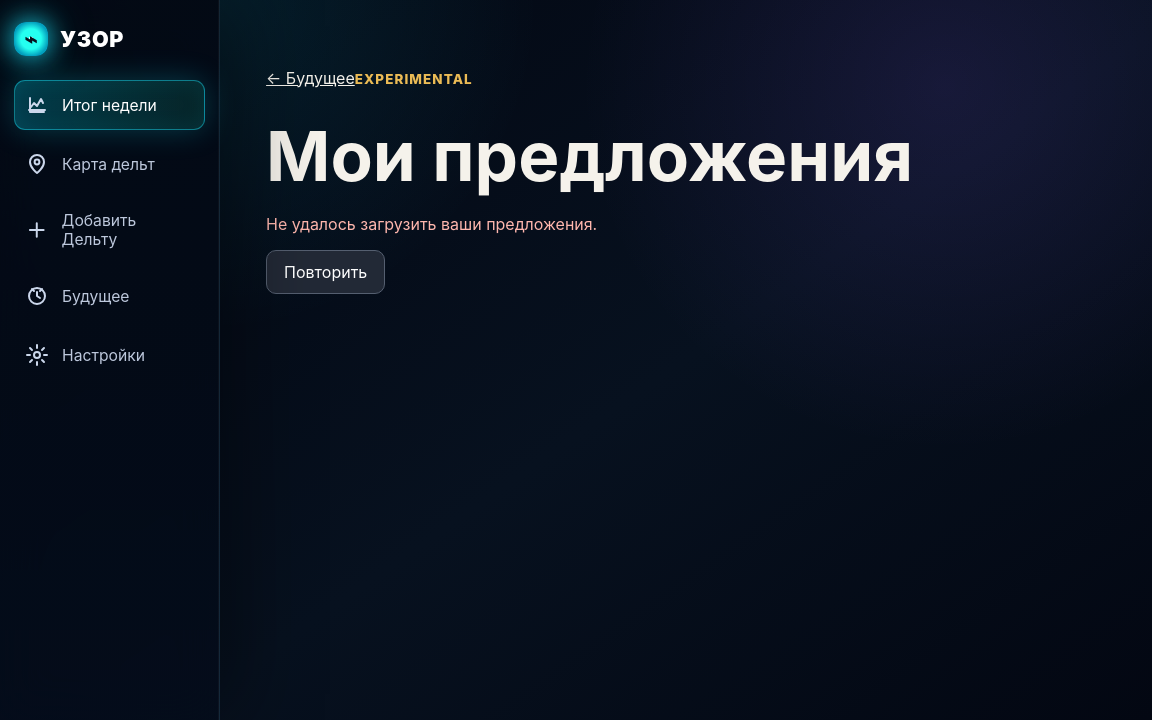
Test case: ForecastProposalMinePage production states › shows a safe error and retries
Expected: the text "Не удалось загрузить ваши предложения." is shown, [266,214,597,234]
Click the button "Повторить".
click(326, 272)  # box [266,250,385,294]
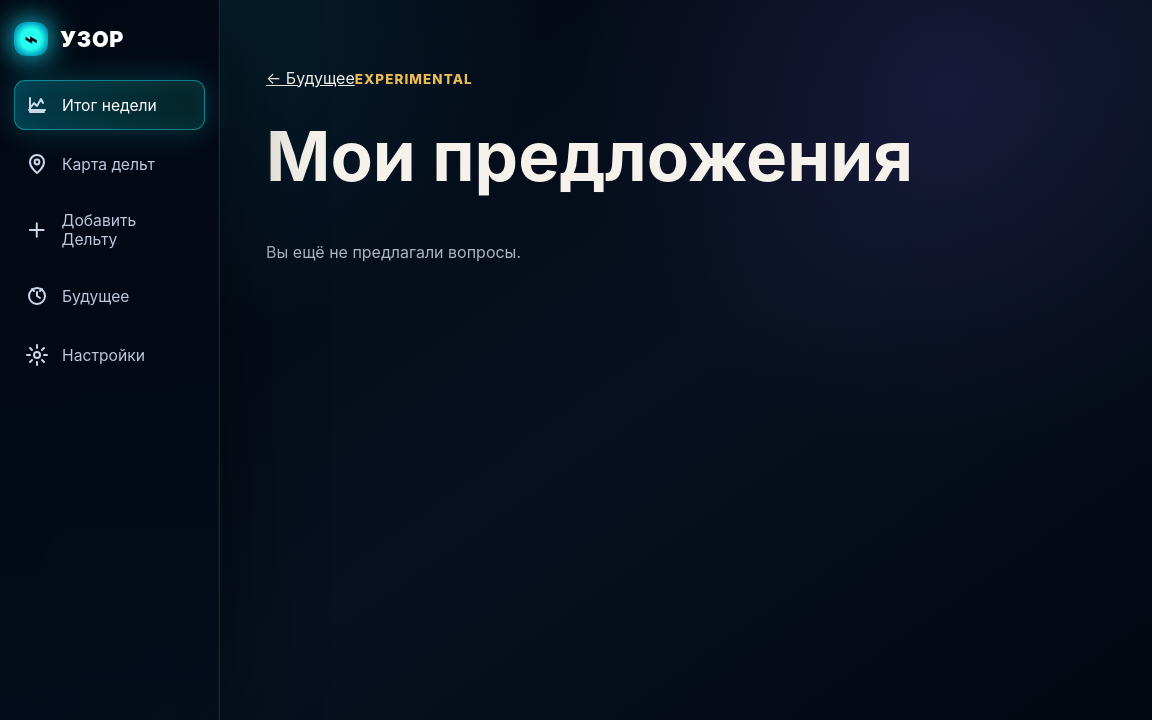
Result: the text "Вы ещё не предлагали вопросы." is shown at [266,242,521,262]
